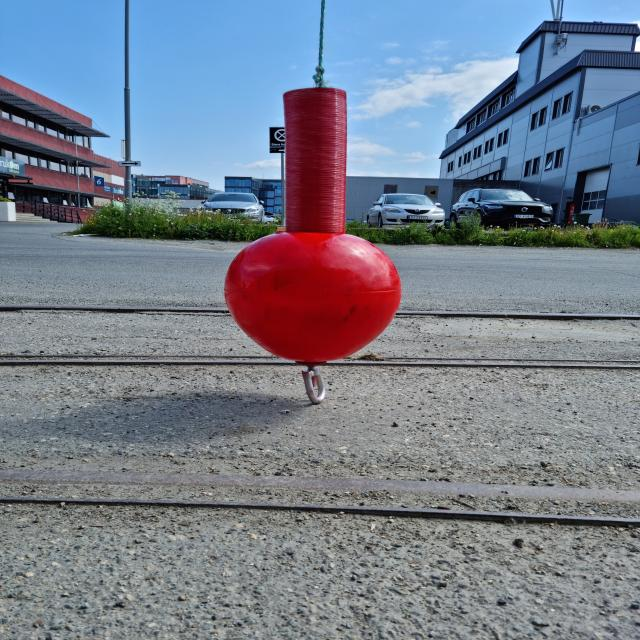red: (225, 88, 402, 361)
